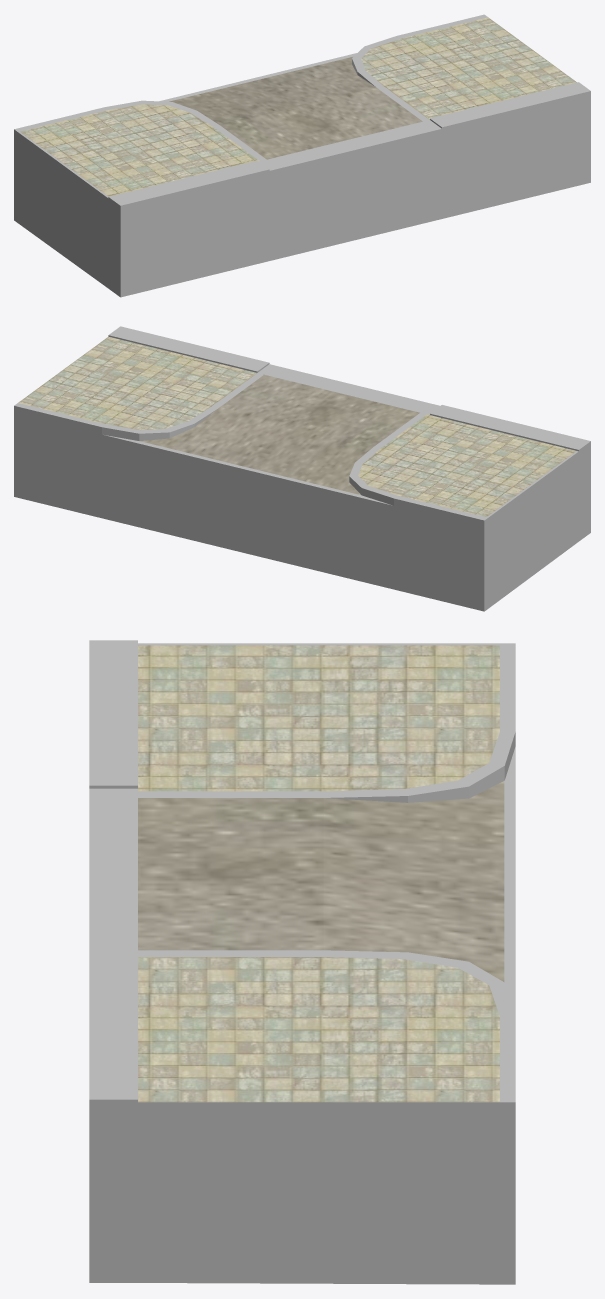
The model's file is road_w02_t02.fbx.
3 views of the same model, one above another, from view 1: azimuth 30°, elevation 25°; view 2: azimuth 150°, elevation 25°; view 3: azimuth 270°, elevation 25° (orthographic). The views are drawn at different scales.
Parts seen in each view (by area): view 1: road_w02_t02; view 2: road_w02_t02; view 3: road_w02_t02.
Part boxes in pixels (box(x1,y1,x2,y2)): road_w02_t02: box(14, 14, 590, 297); road_w02_t02: box(14, 326, 590, 611); road_w02_t02: box(89, 640, 515, 1284).
Bounding box in the file's own units: 12 × 2.26 × 4.71.
